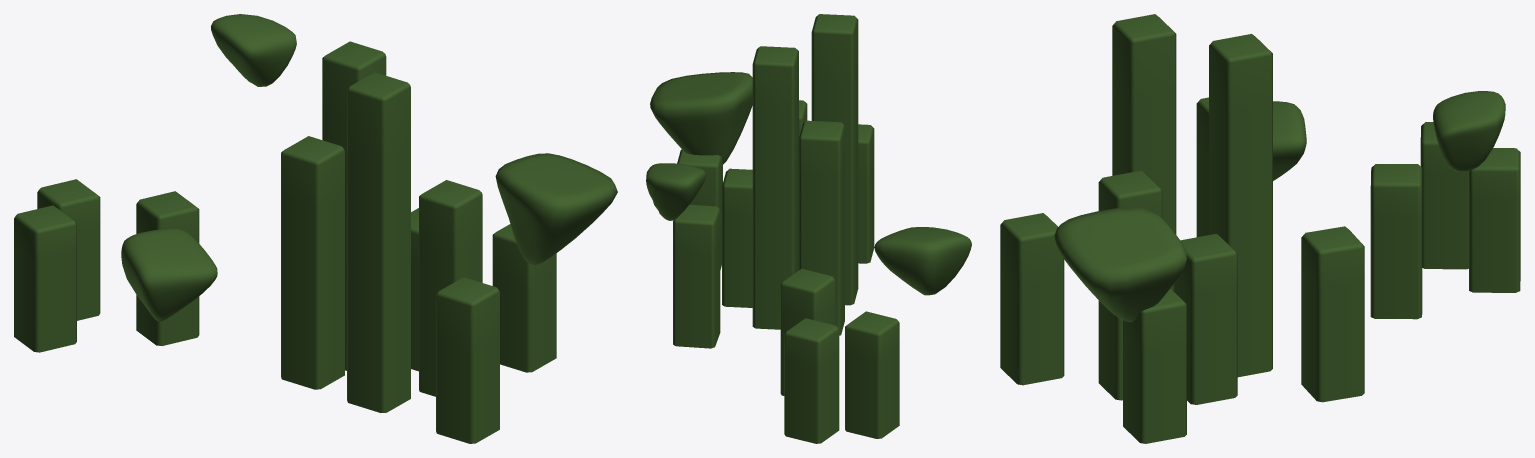
Rendered from SM_GrassClump_01.glb.
3 renders of one model, left to right at view 1: azimuth 30°, elevation 25°; view 2: azimuth 150°, elevation 25°; view 3: azimuth 270°, elevation 25°, orthographic. The views are drawn at different scales.
Visible parts, largest first — view 1: SM_GrassClump_01; view 2: SM_GrassClump_01; view 3: SM_GrassClump_01.
Part boxes in pixels (x1,y1,x2,y2): SM_GrassClump_01: (14, 14, 617, 443); SM_GrassClump_01: (646, 14, 971, 443); SM_GrassClump_01: (1000, 14, 1520, 443).
Bounding box in the file's own units: 1.5 × 1.06 × 1.52.
